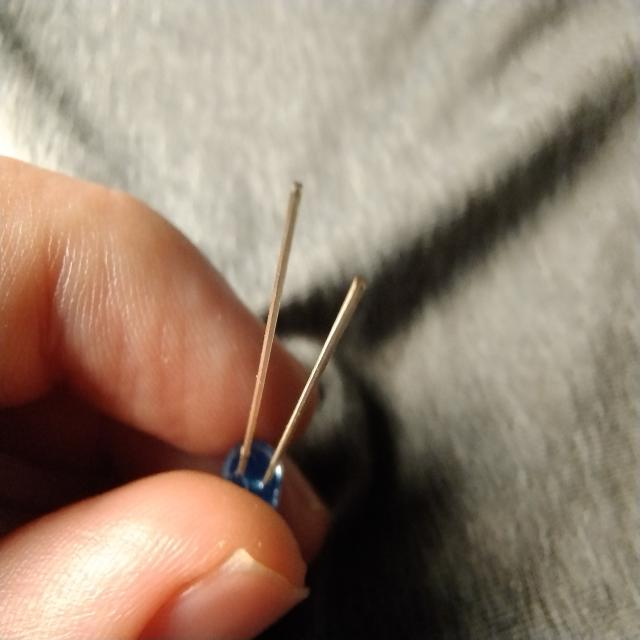blue_led: (221, 436, 285, 509)
